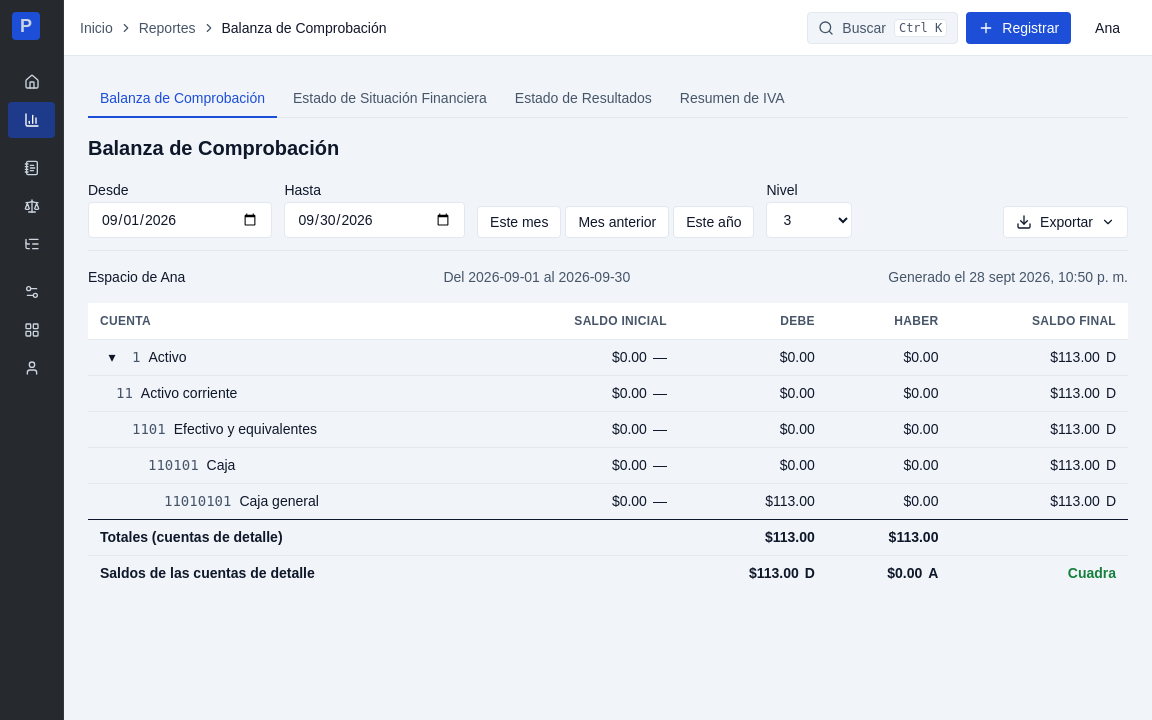
Test: Balanza de Comprobación › contrae y expande las cuentas de una clase
Expected: the text "11010101" is shown, [164,491,231,511]
Click the button named "Contraer Activo".
click(112, 357)  # box [100,345,124,369]
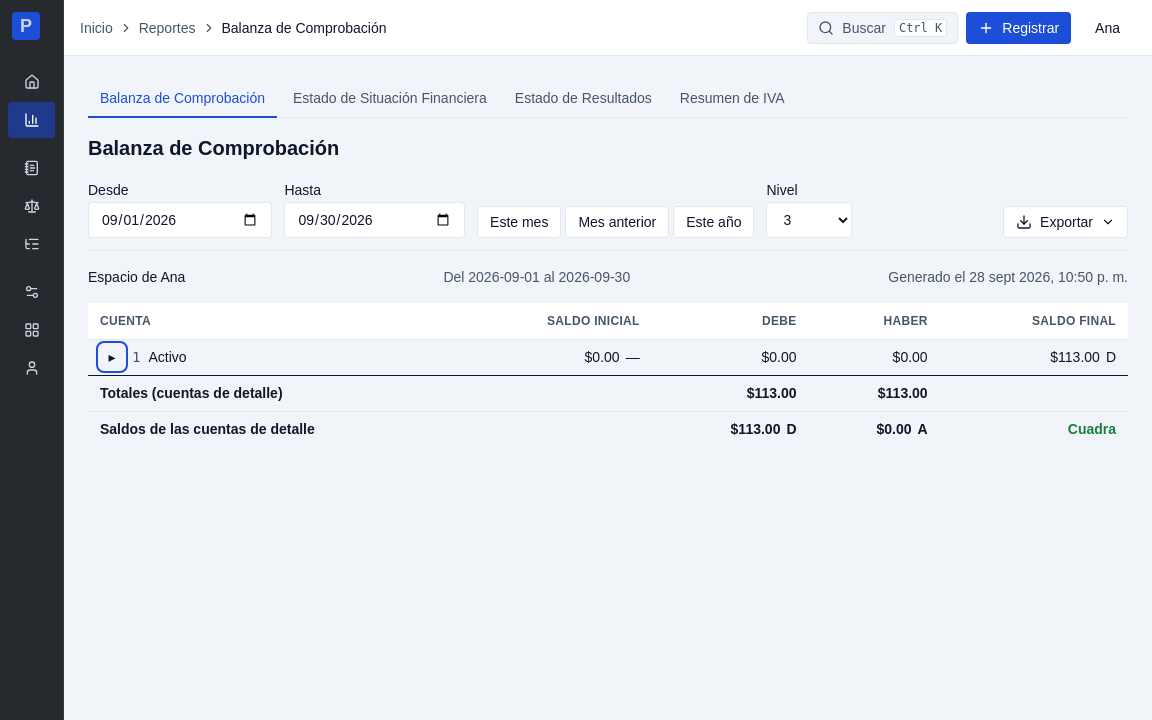
Expected: the link "11010101" is gone
Click the button named "Expandir Activo".
click(112, 357)  # box [100,345,124,369]
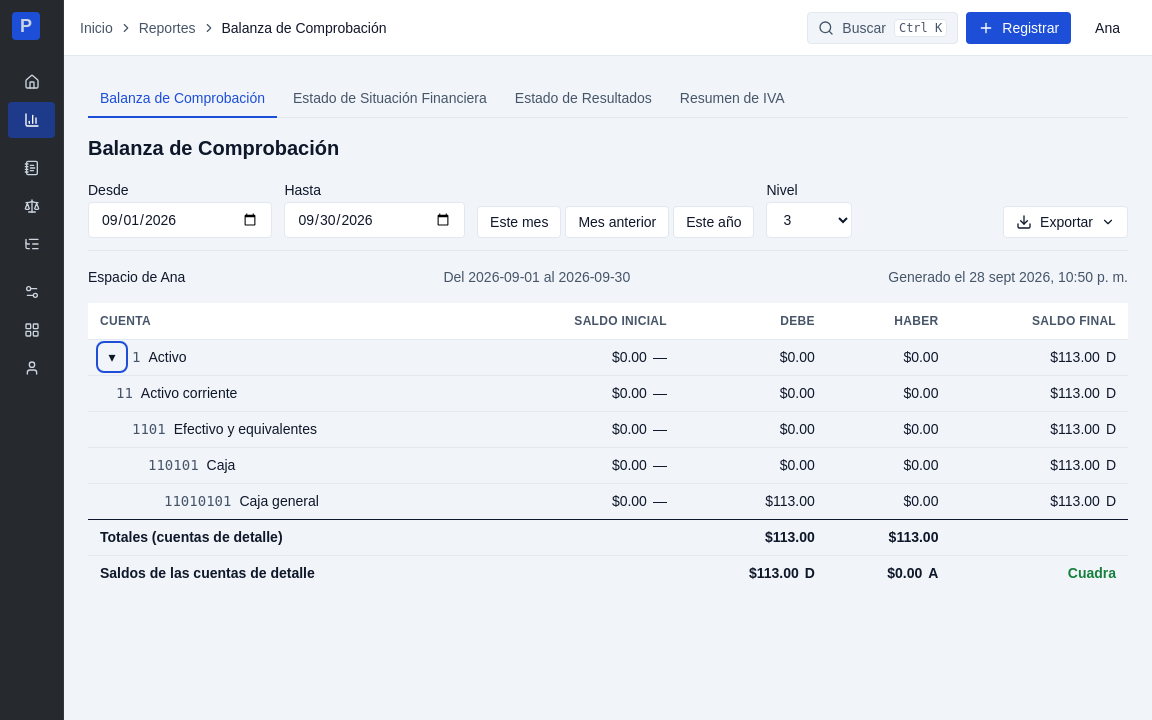
Expected: the text "11010101" is shown, [164,491,231,511]
